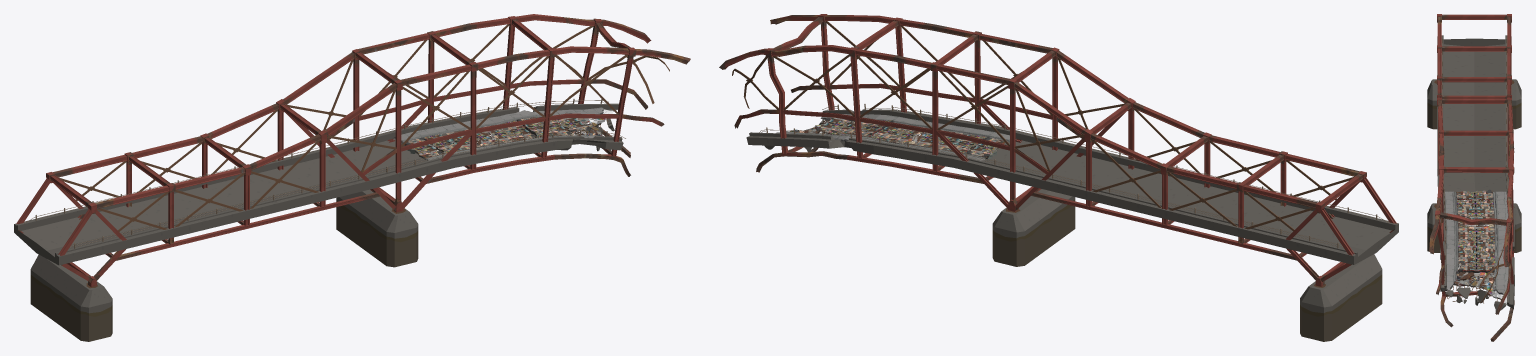
File: apoc_SM_Env_Bridge_01.gltf
3 renders of one model, left to right at view 1: azimuth 30°, elevation 25°; view 2: azimuth 150°, elevation 25°; view 3: azimuth 270°, elevation 25°, orthographic. The views are drawn at different scales.
Parts seen in each view (by area): view 1: SM_Env_Bridge_01; view 2: SM_Env_Bridge_01; view 3: SM_Env_Bridge_01.
Part boxes in pixels (bbox=[...]): SM_Env_Bridge_01: bbox=[14, 14, 690, 341]; SM_Env_Bridge_01: bbox=[719, 14, 1398, 341]; SM_Env_Bridge_01: bbox=[1427, 14, 1521, 341].
Bounding box in the file's own units: 168 × 44.91 × 25.92.
2 materials, 2 textured.
